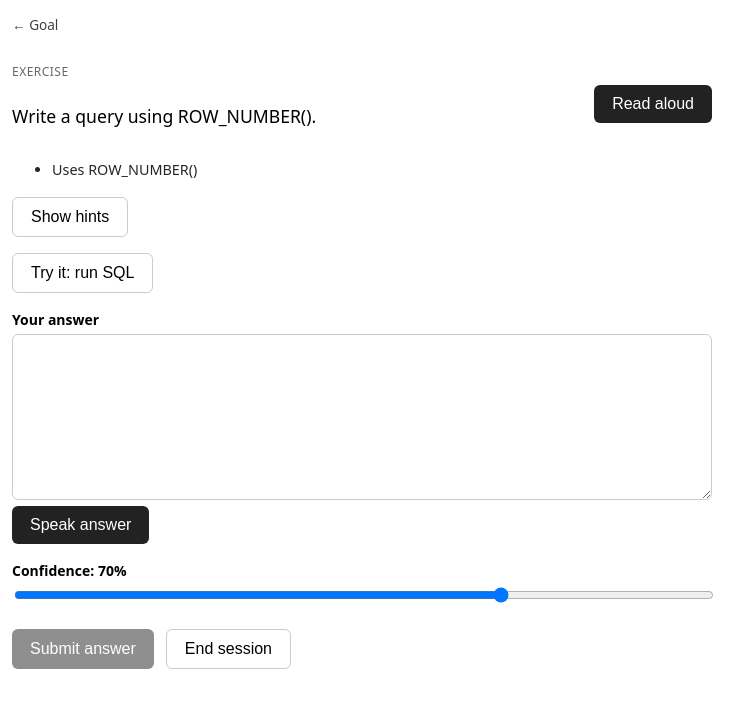
SessionUI › reveals hints on demand
Expected: the text "Write a query using ROW_NUMBER()." is shown, [12,104,316,128]
Expected: the text "Think about ordering" is not shown
Click the button "Show hints" at {"x": 70, "y": 217}, box [12,197,128,237]
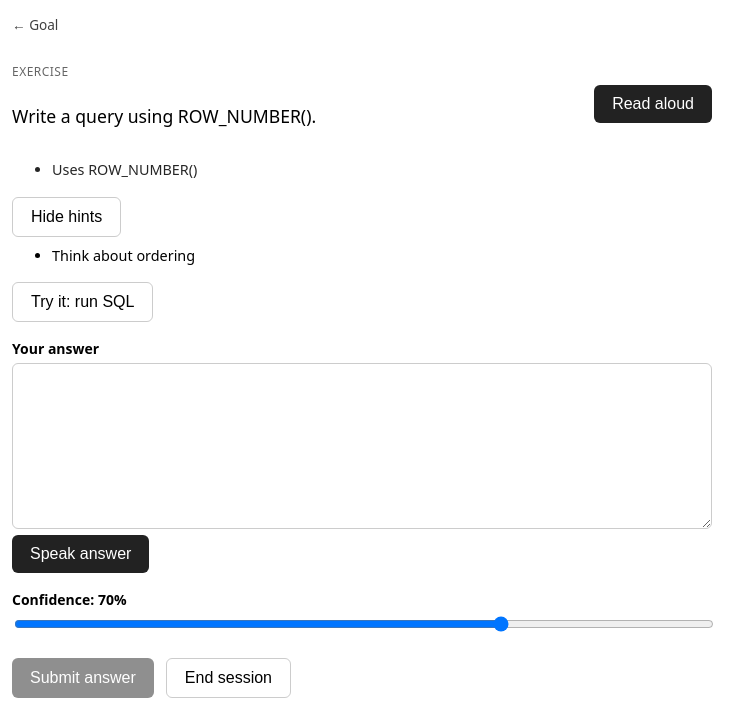
Now the list item "Think about ordering" is shown, box [52,246,195,265]
